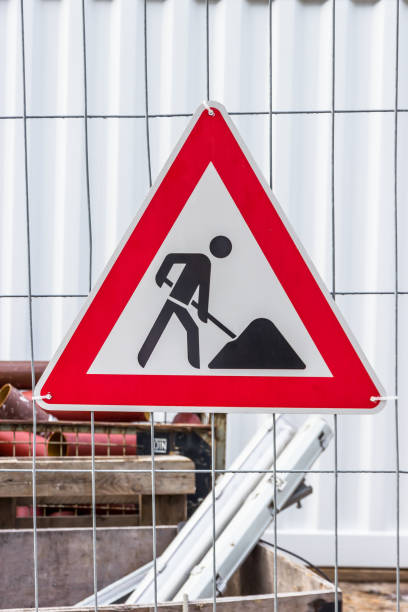yol_calismasi_levha: (38, 104, 391, 414)
